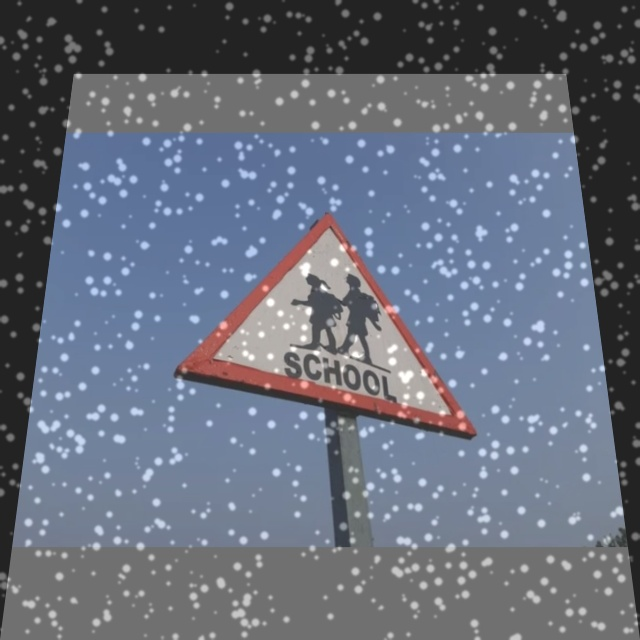School_Ahead: (203, 211, 461, 435)
